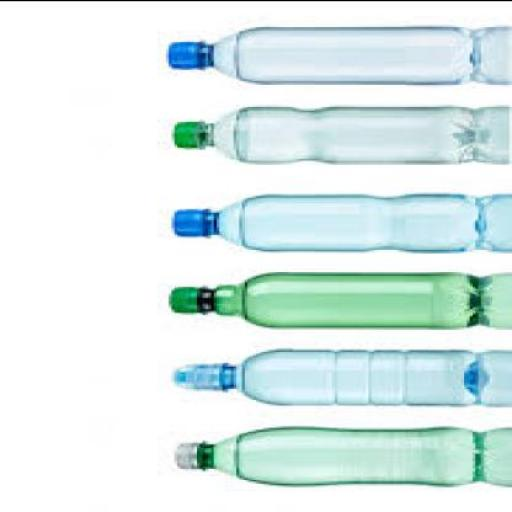plastic: (172, 423, 484, 484), (171, 343, 481, 404), (172, 104, 478, 163), (166, 270, 484, 326), (172, 191, 484, 248), (166, 25, 481, 81), (172, 360, 233, 390), (168, 206, 216, 236), (166, 38, 214, 64), (166, 284, 208, 310), (169, 439, 203, 468), (172, 118, 208, 144)
